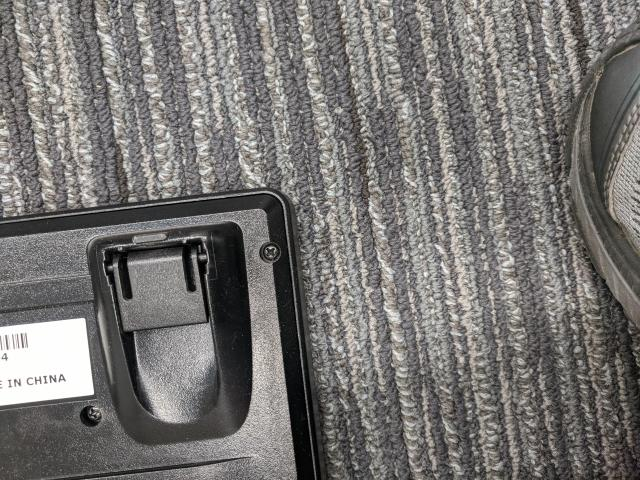CRS: (82, 404, 105, 426), (262, 243, 278, 261)
